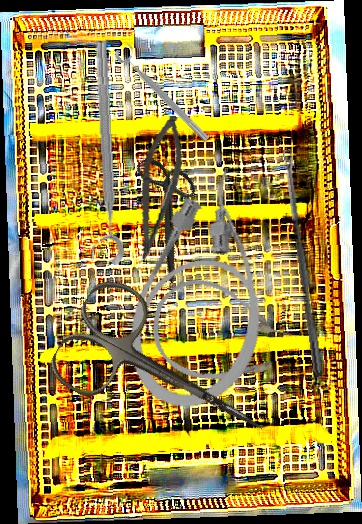Cannula: (110, 157, 305, 425), (140, 268, 300, 402)
Fixation Ring: (112, 40, 217, 145), (77, 40, 125, 267)
Iris Scissors: (43, 271, 291, 482), (101, 144, 234, 285)
Micro Scissor: (131, 113, 189, 263)
Surgical Spoon: (282, 148, 325, 378)
